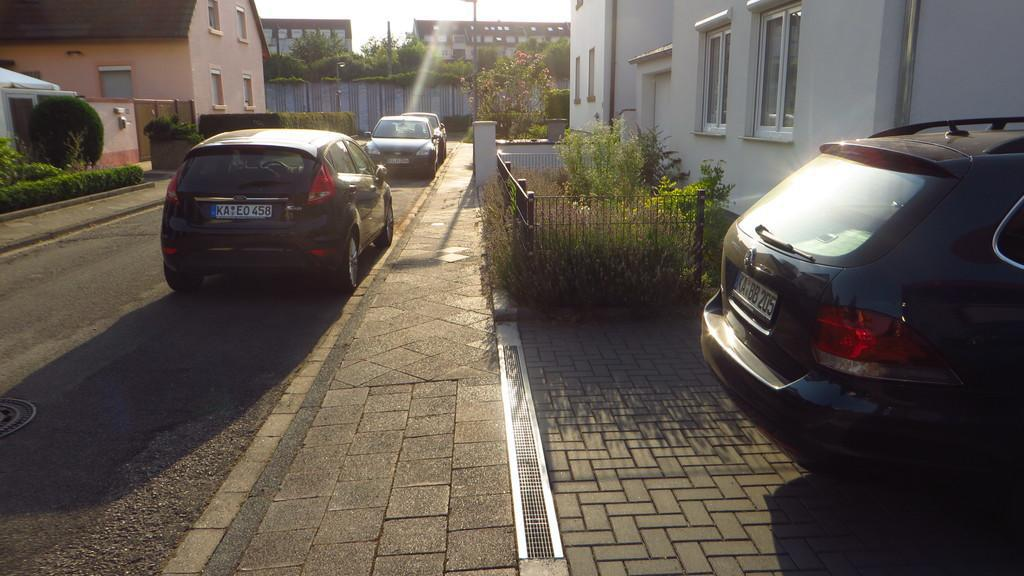License_Plate: (729, 269, 776, 320), (208, 202, 270, 218), (388, 157, 408, 162)
